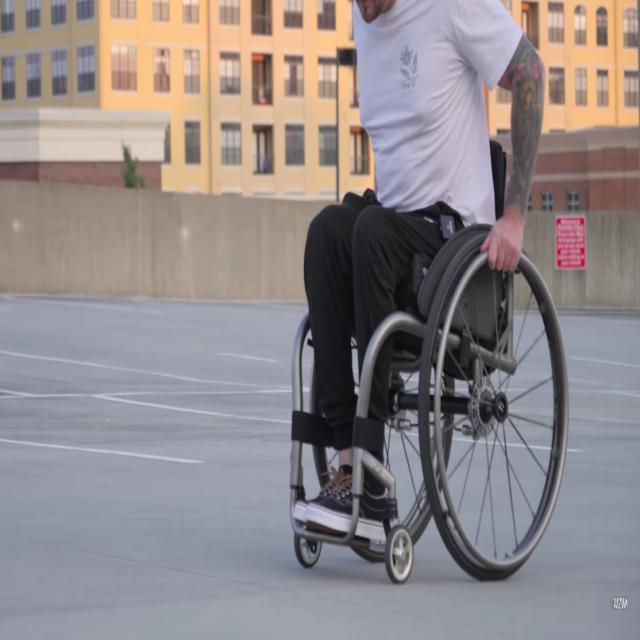wheelchairs: (286, 223, 562, 572)
